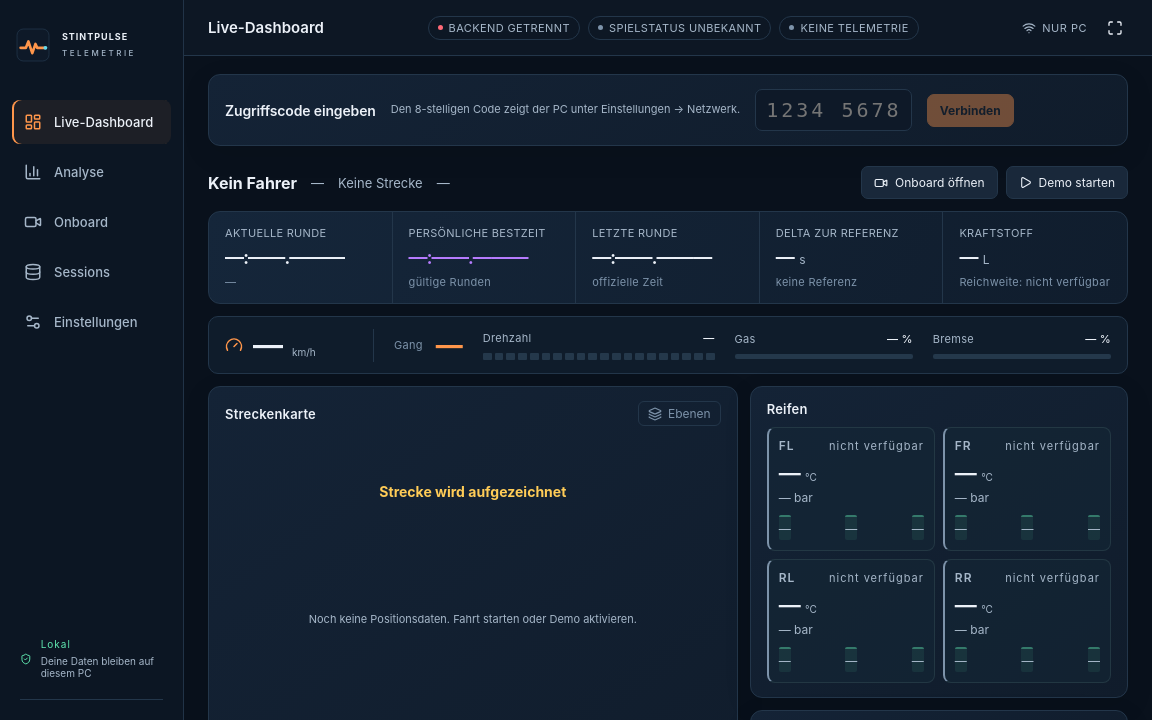
Scenario: code screen stops polling so the phone is not flooded with code-less requests
The image size is (1152, 720).
Expected: the heading "Zugriffscode eingeben" is shown, [225,102,376,118]
Type "1234 56" into the field named "Zugriffscode" at x=833, y=110, box [755,89,912,131]
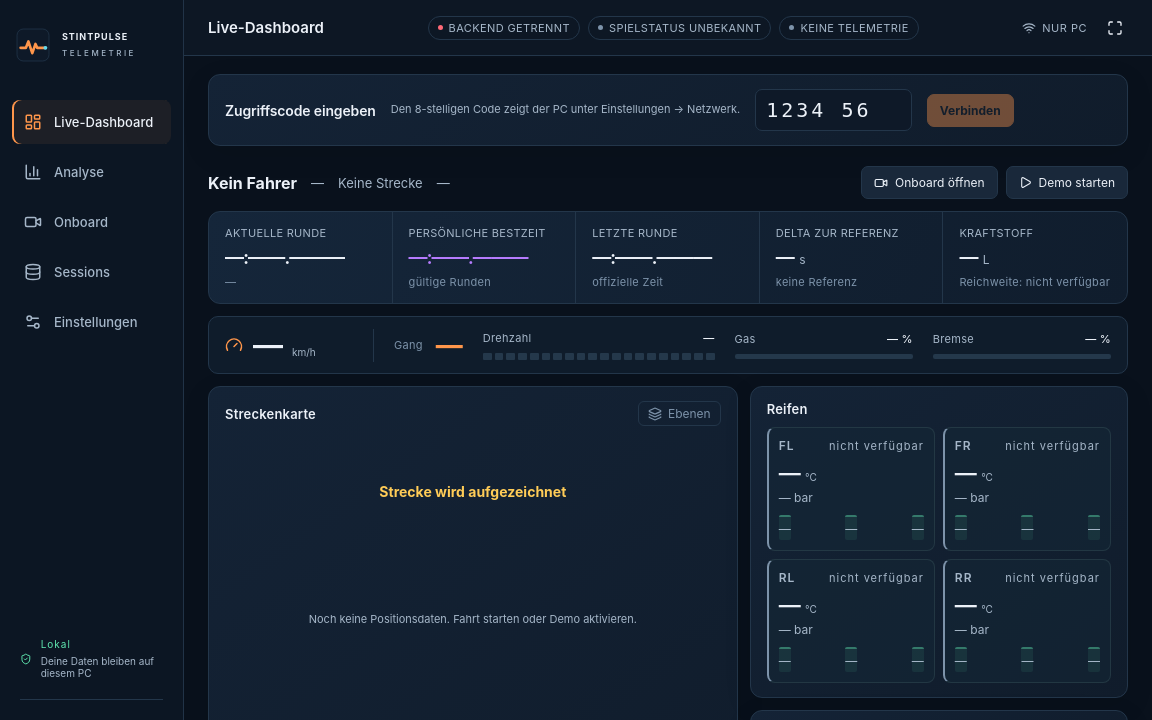
Expected: the button "Verbinden" is disabled, [927,94,1014,126]
Replace the text in the field named "Zugriffscode" with "1234 5678" at x=833, y=110, box [755,89,912,131]
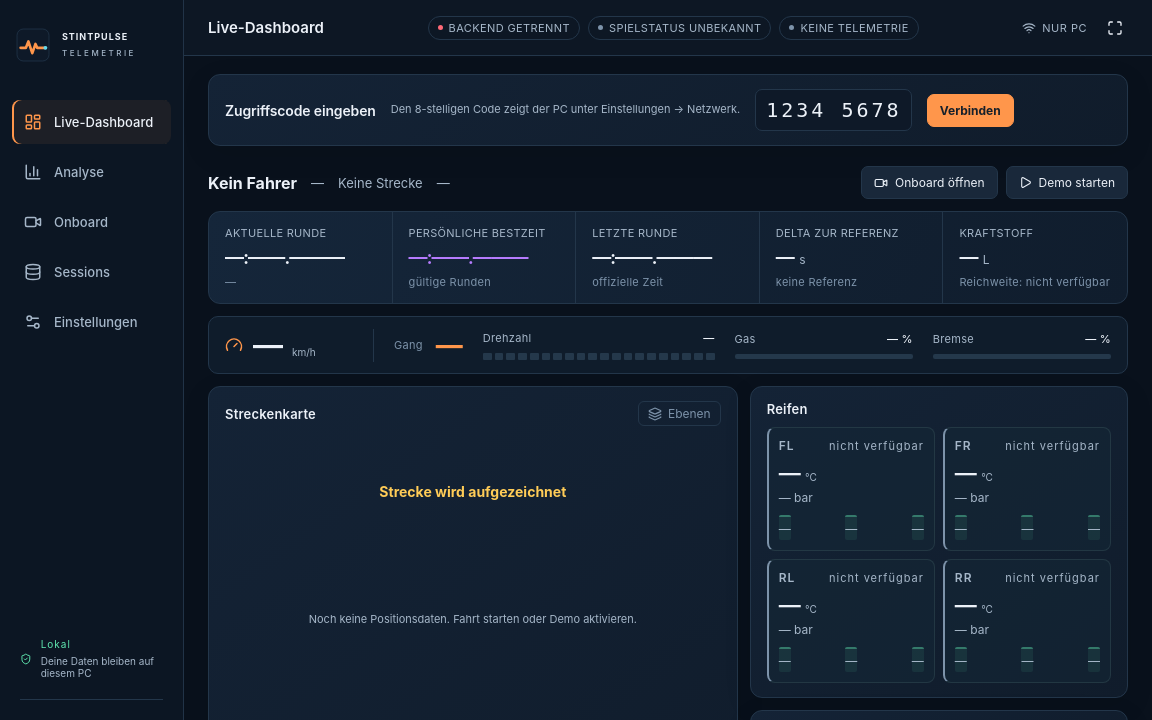
Result: the button "Verbinden" is enabled at [927,94,1014,126]
